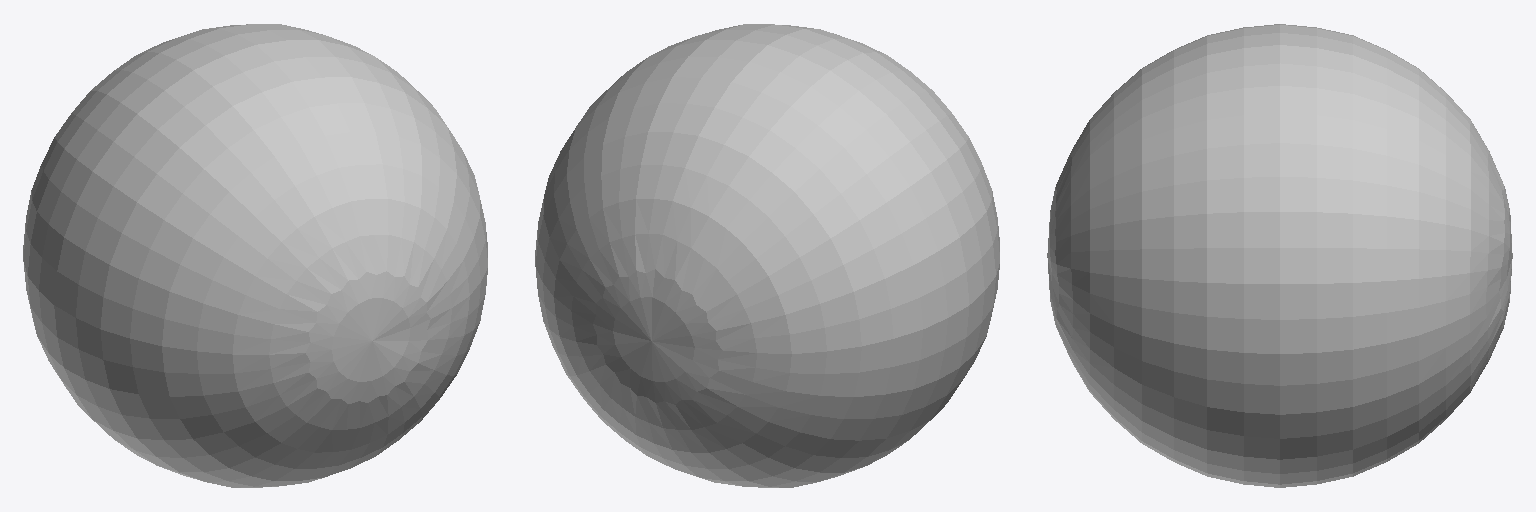
The model's file is luxoball_2.obj.
The picture shows the model from 3 angles: view 1: azimuth 30°, elevation 25°; view 2: azimuth 150°, elevation 25°; view 3: azimuth 270°, elevation 25°; orthographic projection.
Parts seen in each view (by area): view 1: default; view 2: default; view 3: default.
Boxes of the visible parts, box(x1,y1,x2,y2) form: default: box(23, 24, 487, 487); default: box(535, 24, 999, 487); default: box(1047, 24, 1512, 487).
Size of the model in its own units: 0.9082 by 0.9082 by 0.9071.